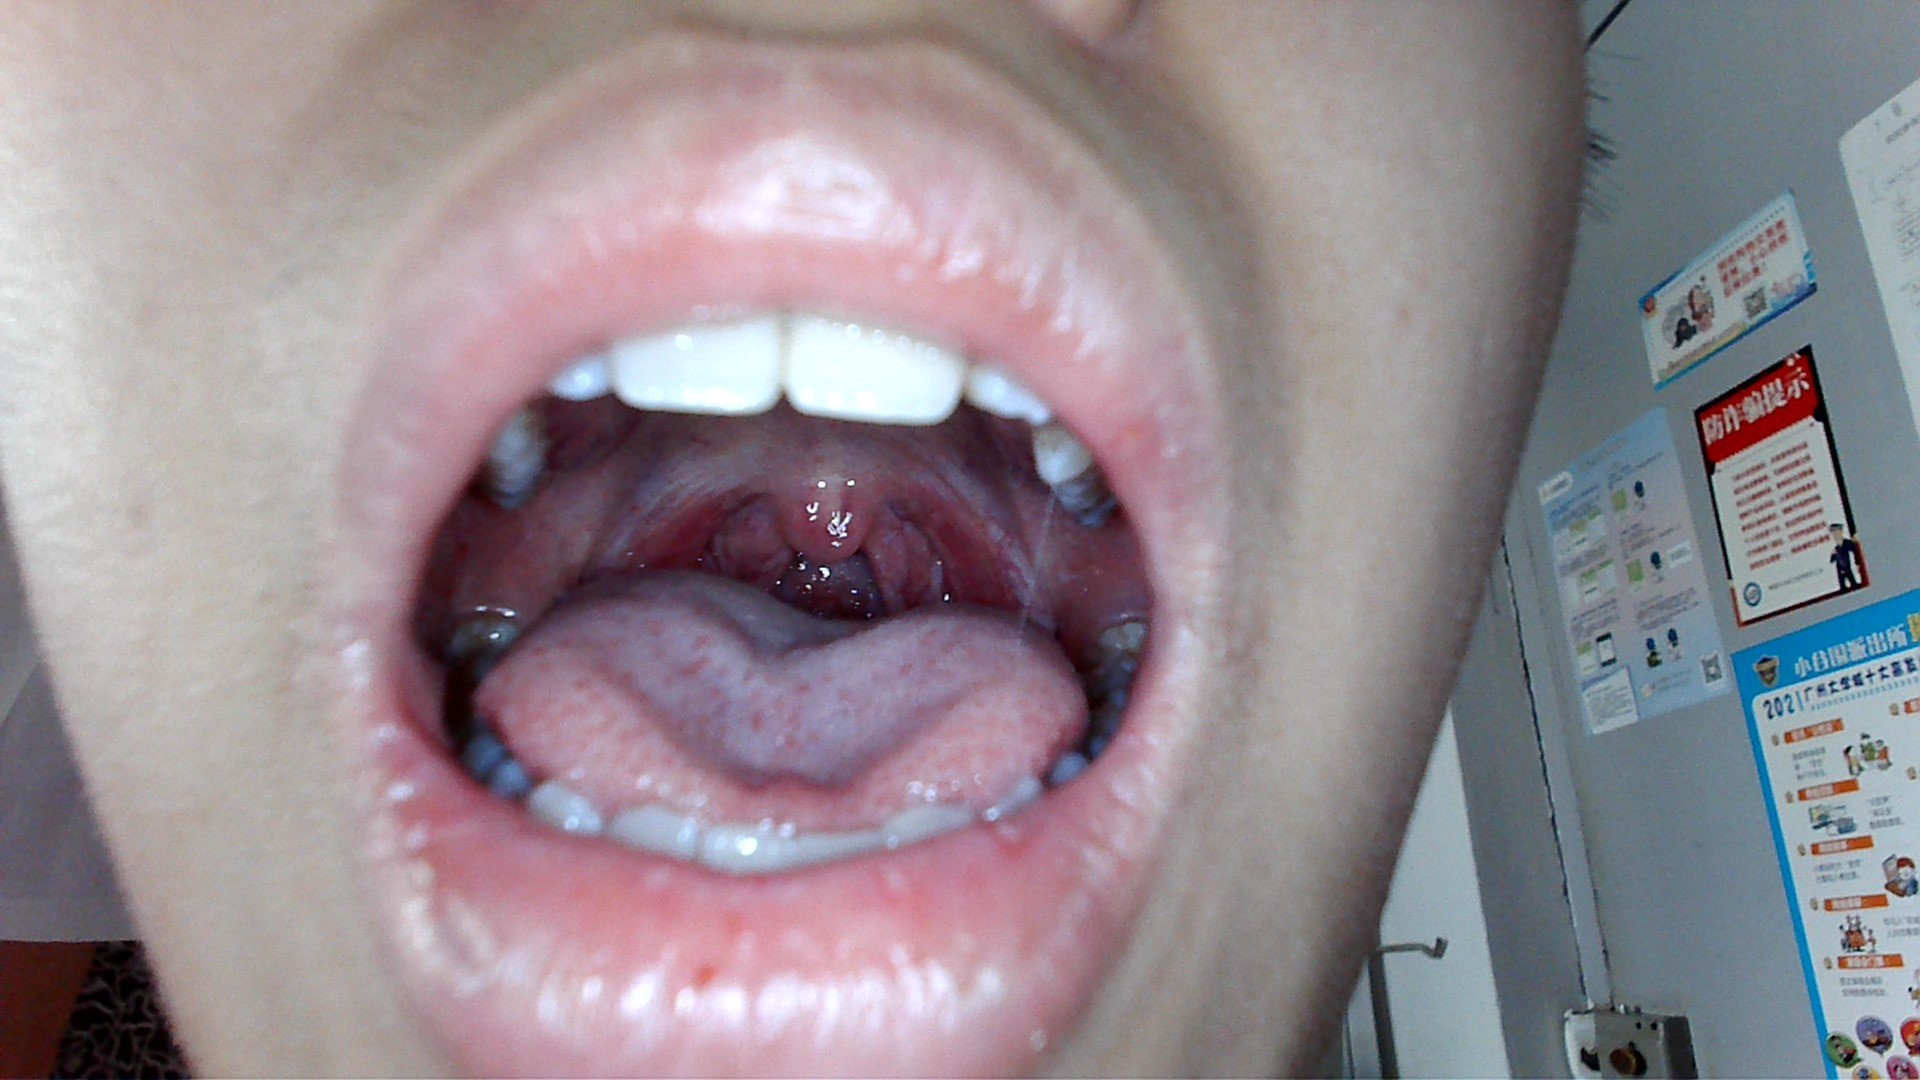throat: (906, 488, 1026, 608), (626, 468, 742, 568)
